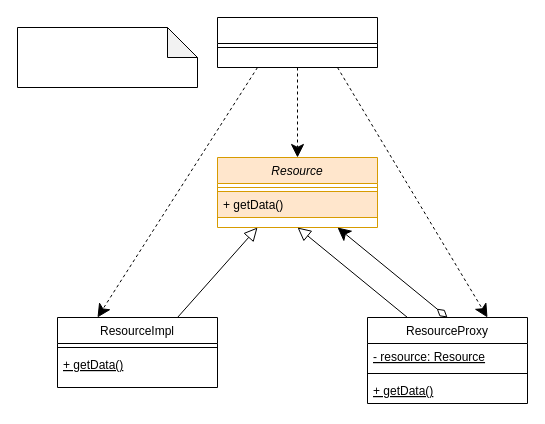
Image size: 545x424. Some labels were removed from this diagram. Here are the shapes that lost their labels. From the top down, the centre of each, then its label:
At pixel 107 57: "Proxy Heavy Resource".
At pixel 297 42: "Client".
